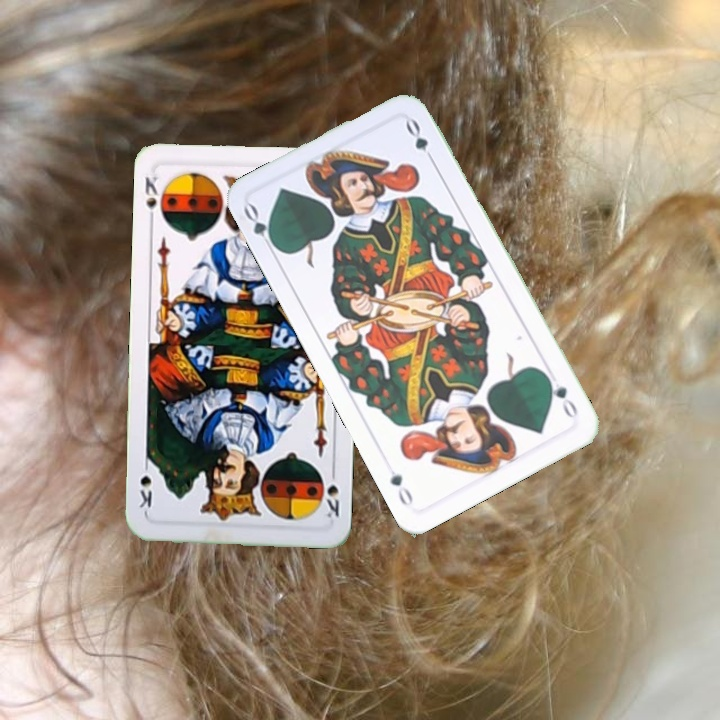GO: (239, 200, 281, 256), (541, 371, 581, 423)
SK: (140, 172, 161, 227), (322, 463, 342, 520)
